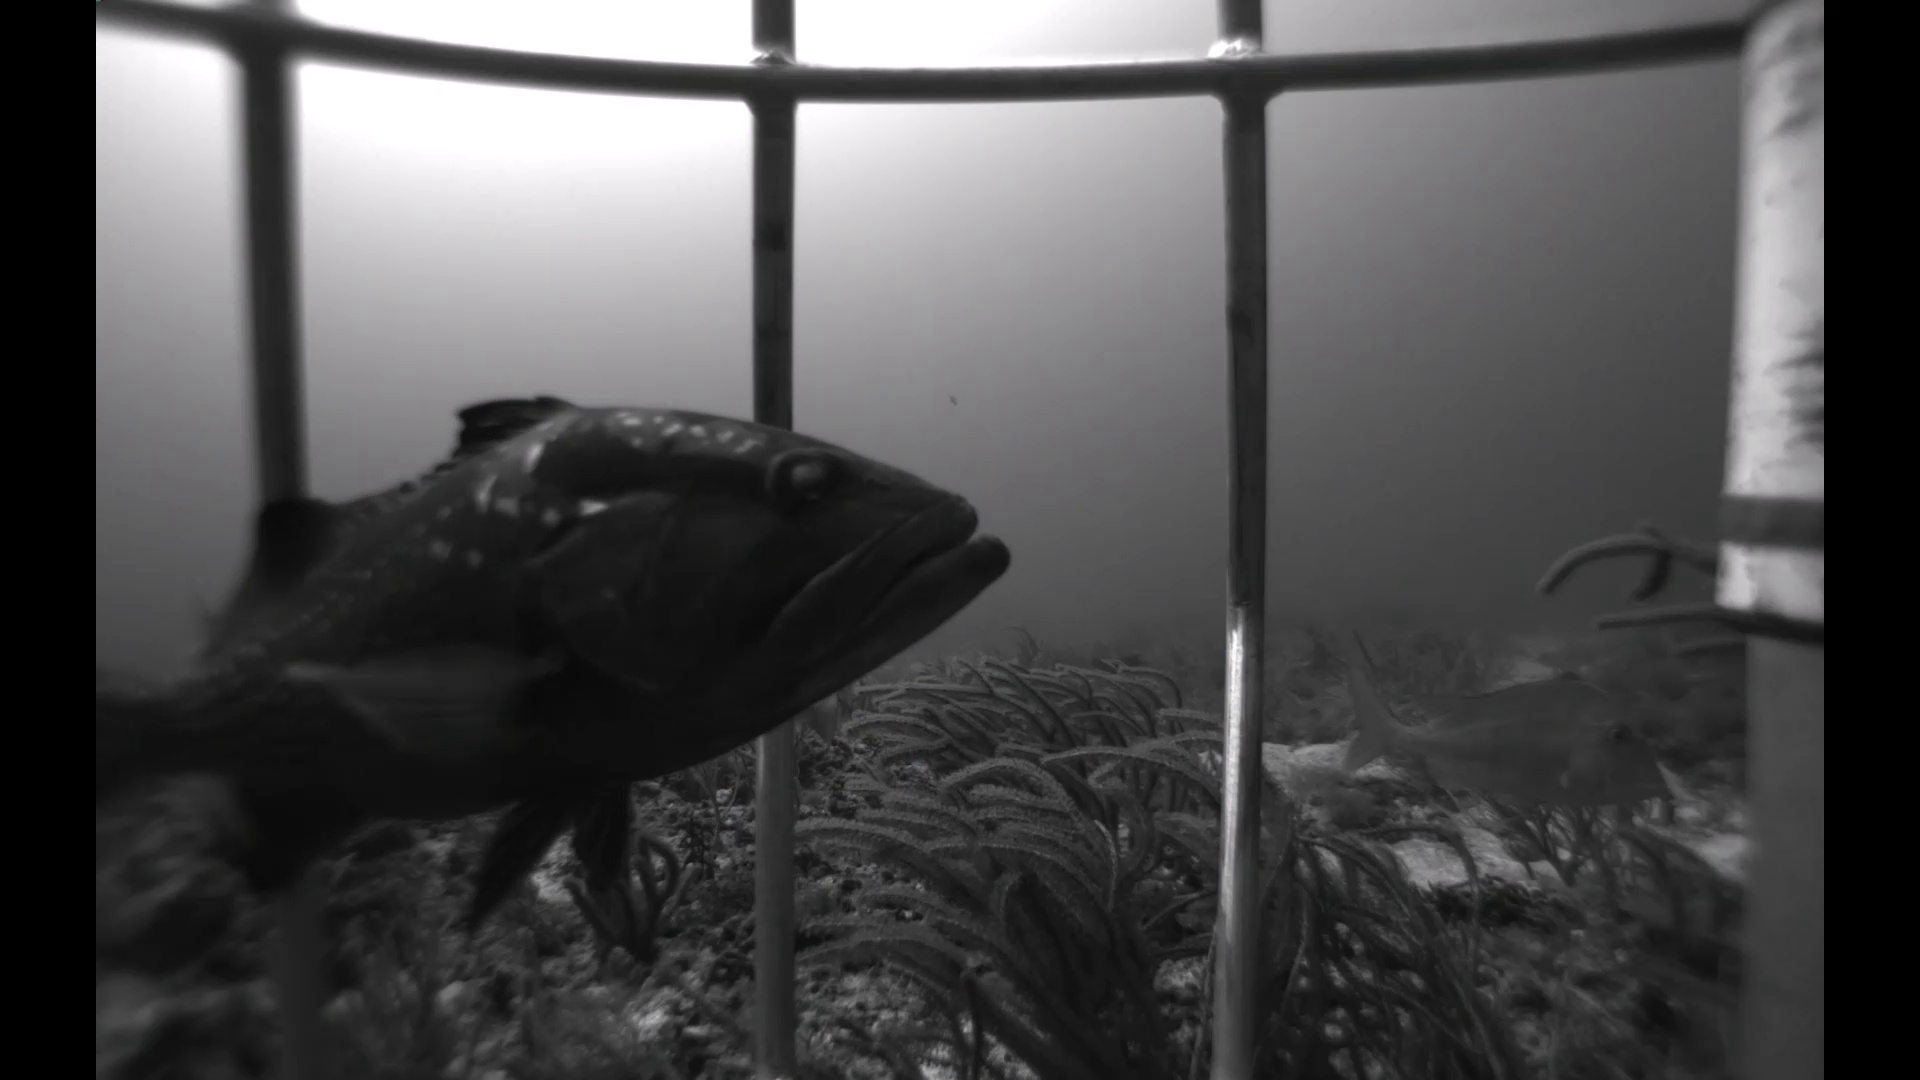CALAMUSNODOSUS-170210608: (1327, 647, 1685, 829)
EPINEPHELUSMORIO-170021211: (113, 381, 1035, 963)
LUTJANUSGRISEUS-170151109: (793, 688, 855, 756)
